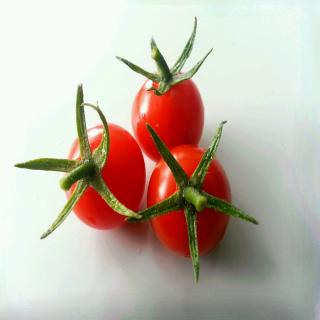tomato: (125, 119, 262, 283), (126, 118, 261, 282), (13, 84, 148, 240), (115, 15, 212, 164)
